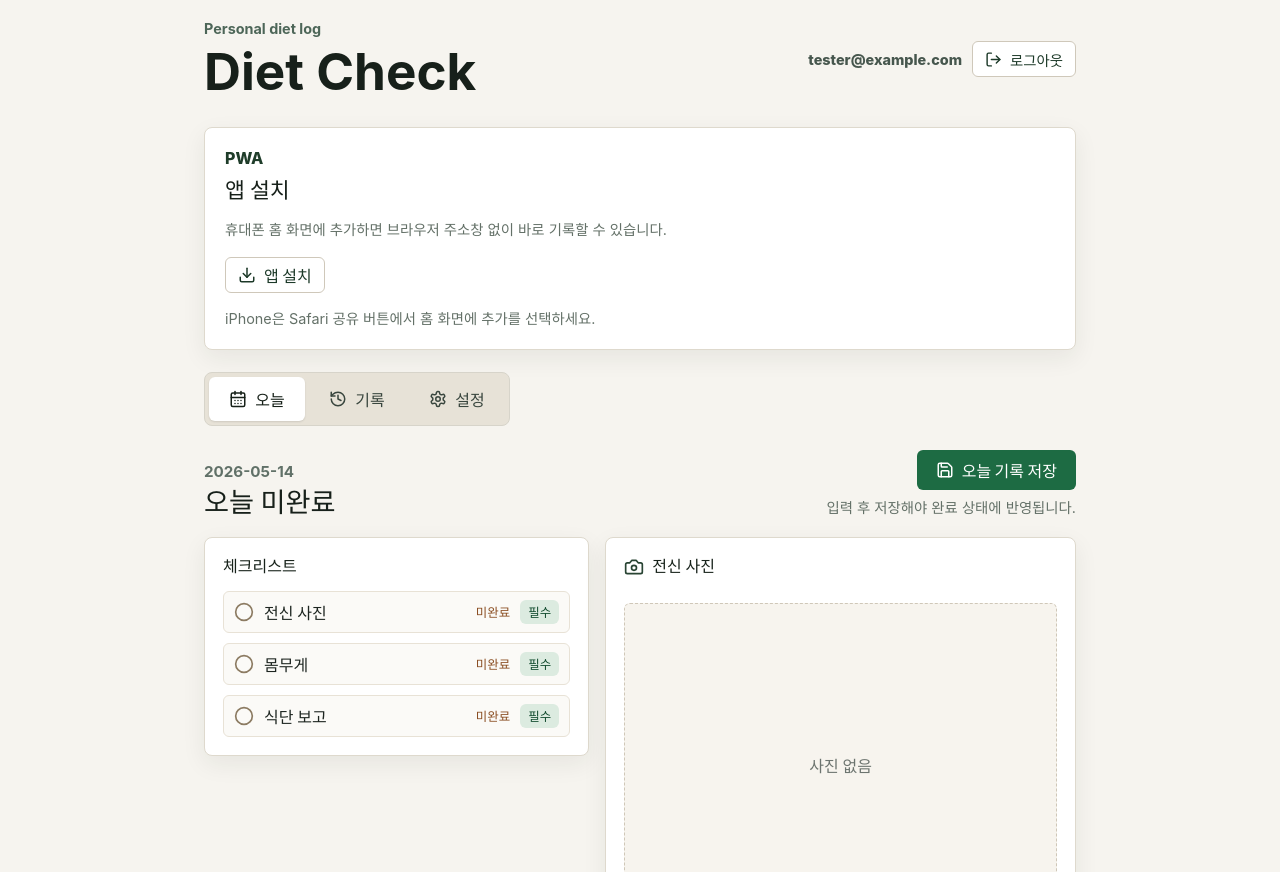
Test case: App › renders the real today view for an authenticated user and switches views
Expected: the heading "Diet Check" is shown, [204,45,476,99]
Expected: the heading "오늘 미완료" is shown, [204,487,336,519]
Click the button "기록" at (357, 399), box [309,377,405,421]
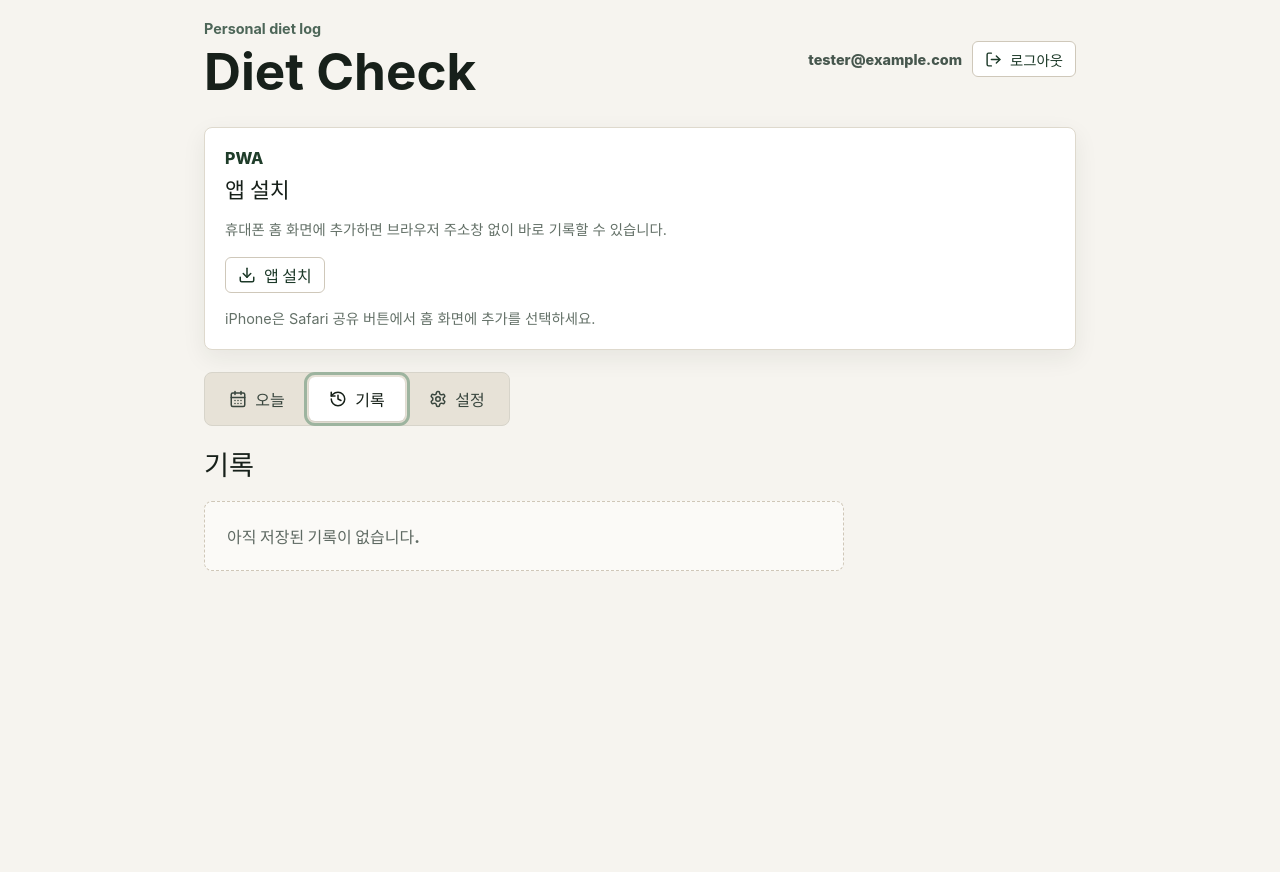
Expected: the heading "기록" is shown, [204,449,254,482]
Expected: the text "아직 저장된 기록이 없습니다." is shown, [204,501,844,571]
Click the button "설정" at (457, 399), box [409,377,505,421]
(page scrolled)
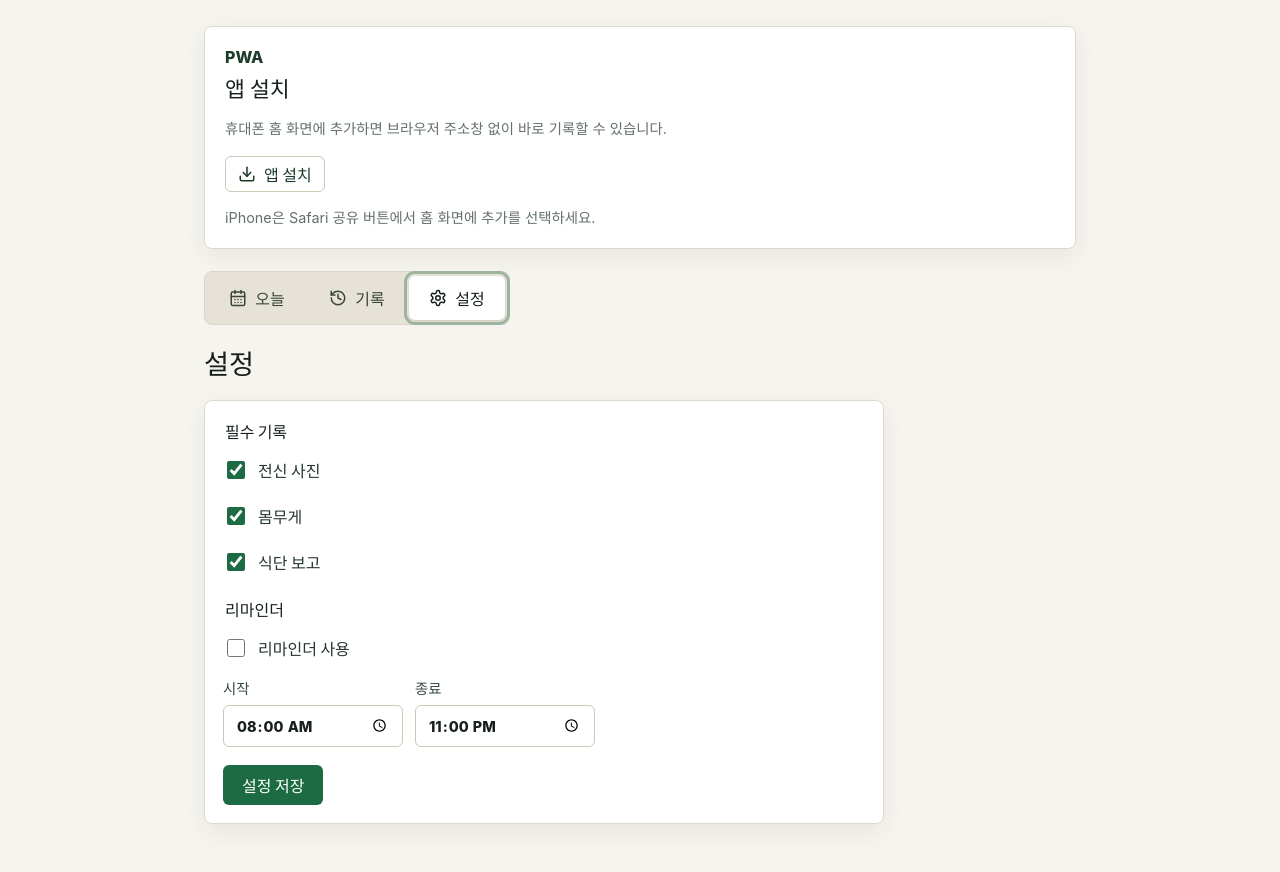
Expected: the heading "설정" is shown, [204,348,254,381]
Expected: the checkbox labelled "전신 사진" is checked, [227,461,245,479]
Expected: the button "설정 저장" is shown, [223,765,323,805]
